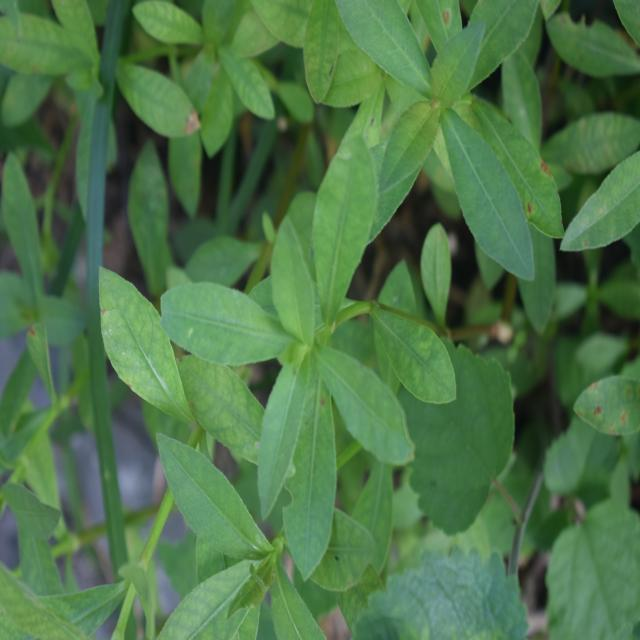Alligatorweed: (188, 133, 434, 547), (342, 4, 586, 288)
